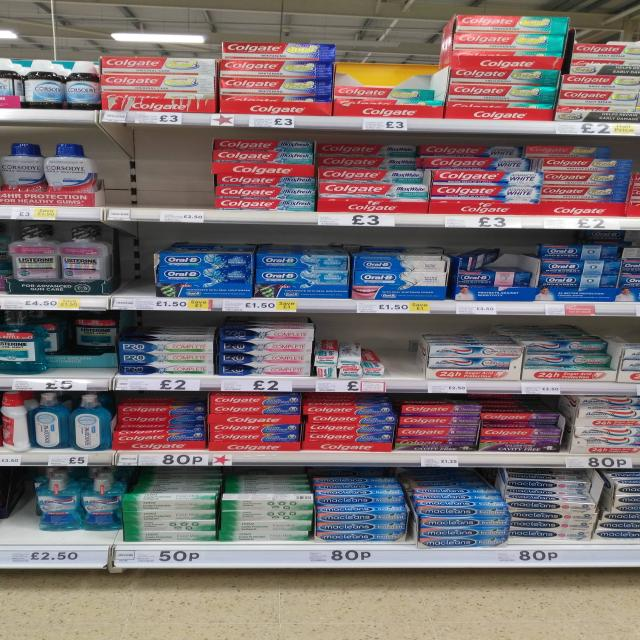void: (95, 141, 209, 208), (115, 224, 153, 296), (0, 468, 35, 544), (387, 314, 426, 377)
